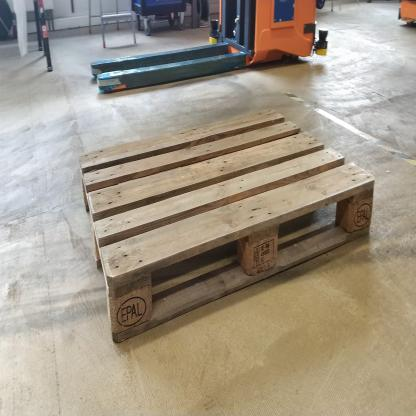BoxFace: (77, 97, 378, 351)
